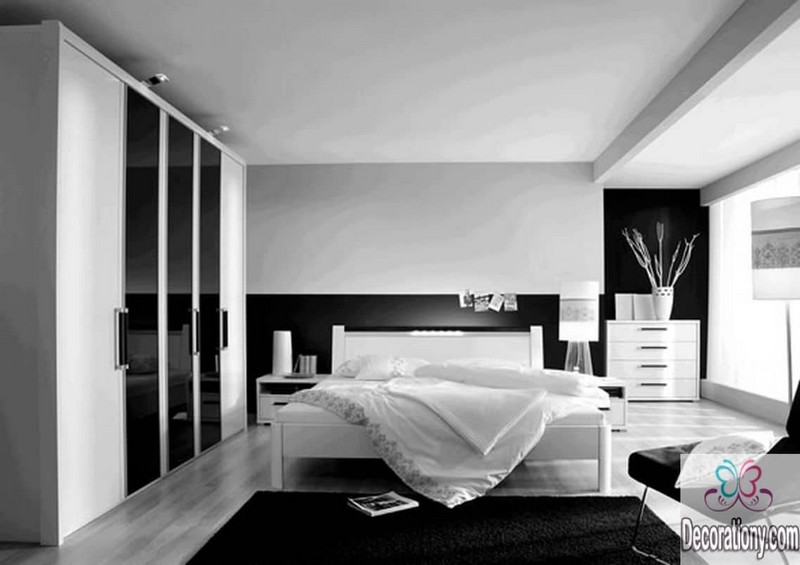bed: (267, 316, 622, 520)
chair: (630, 380, 800, 564)
lamp: (751, 193, 800, 408), (552, 277, 604, 379)
stool: (607, 319, 701, 403), (254, 362, 335, 433)
